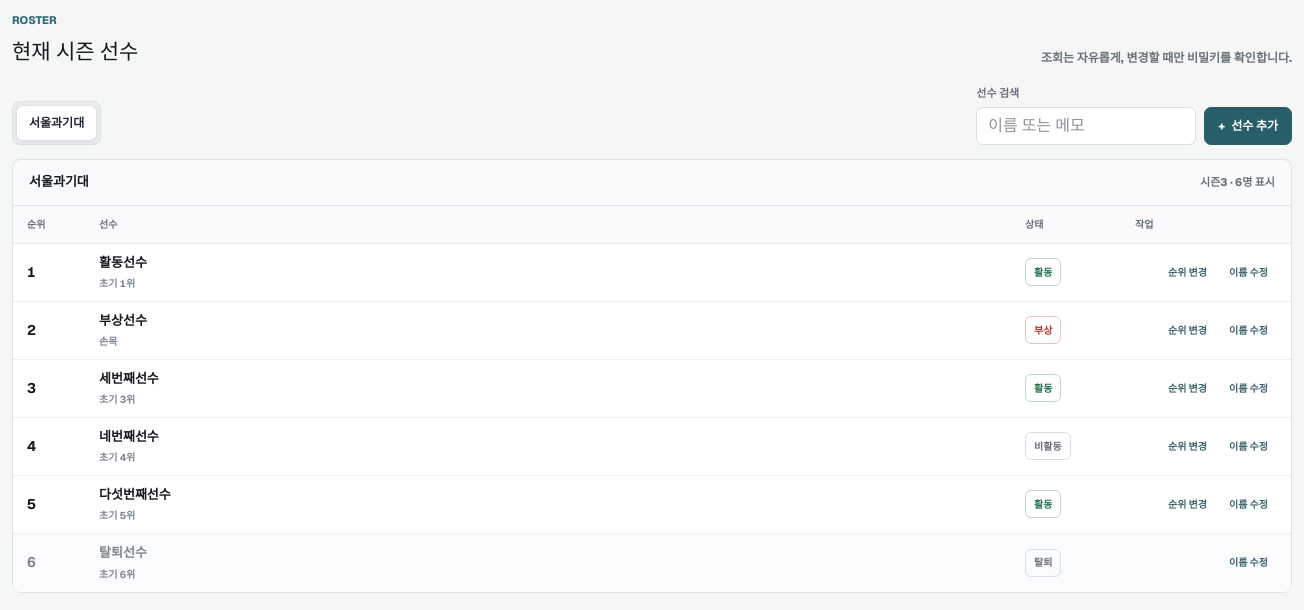
AdminPlayerManager › filters the current club roster by name or note
The width and height of the screenshot is (1304, 610).
Type "손목" into the search field labelled "선수 검색" at (1086, 126), box x1=976 y1=106 x2=1196 y2=144
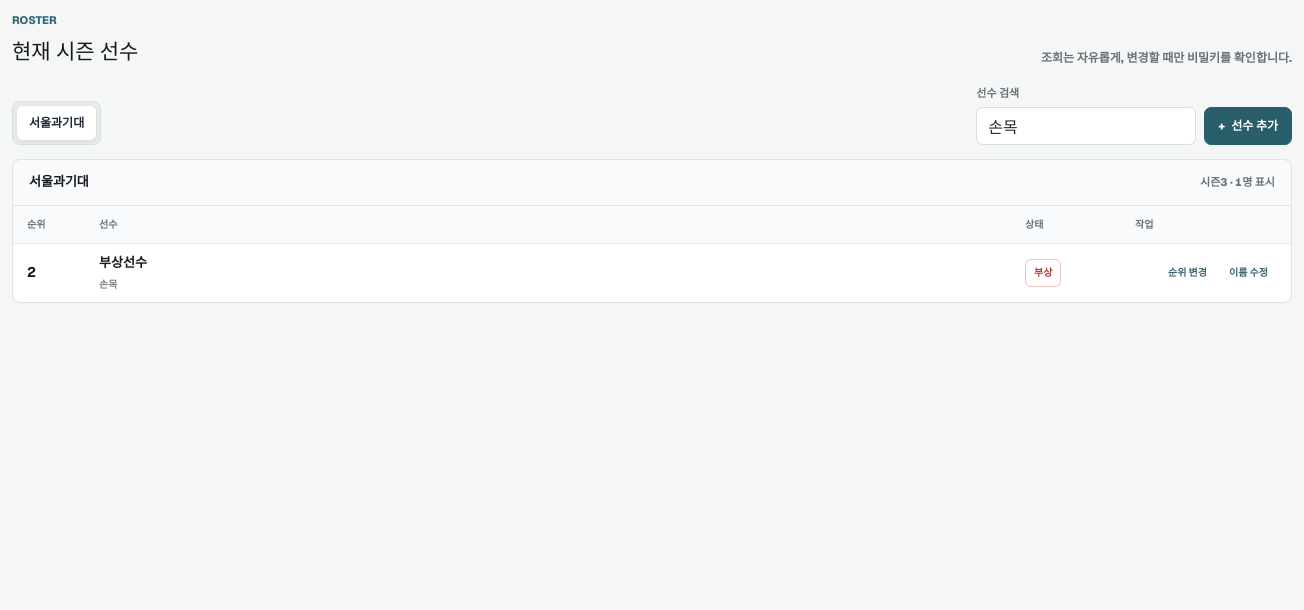
Check: the text "부상선수" is shown, box x1=99 y1=254 x2=147 y2=271
Check: the text "활동선수" is gone
